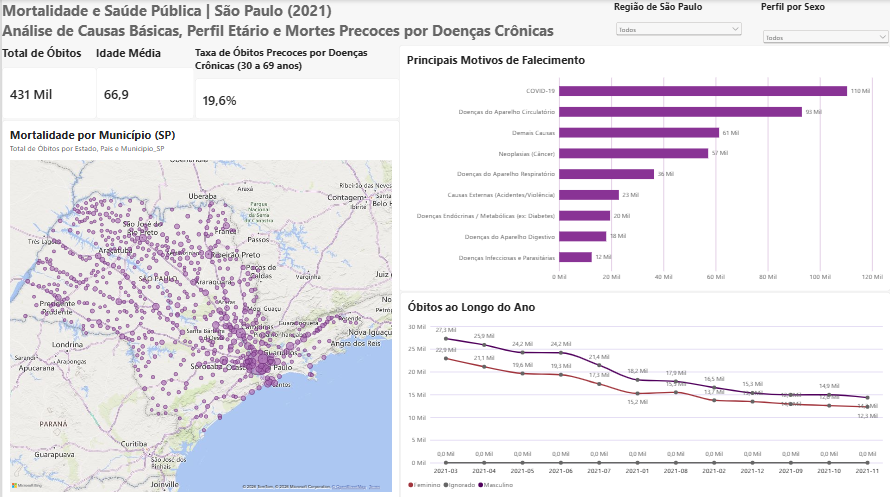

Layout of this report page (visuals, bound fields, positions):
{"tool":"powerbi","page":{"name":"Página 1","canvas":[1920,1080],"ordinal":0},"visuals":[{"type":"slicer","title":"Perfil por Sexo","fields":{"Values":["Mortalidade.SEXO_DESC"]},"box":[1638.6,0,281.4,98.6],"z":0},{"type":"slicer","title":"Região de São Paulo","fields":{"Values":["Mortalidade.MICRORREGIAO"]},"box":[1322.9,0,281,98.6],"z":1000},{"type":"cardVisual","title":"Total de Óbitos","fields":{"Data":["_Medidas.Total Óbitos"]},"box":[0,98,204,160],"z":2000},{"type":"cardVisual","title":"Idade Média","fields":{"Data":["_Medidas.Idade Média"]},"box":[204,98,212,160],"z":3000},{"type":"cardVisual","title":"Taxa de Óbitos Precoces por Doenças Crônicas (30 a 69 anos)","fields":{"Data":["_Medidas.% Prematuros DCNT"]},"box":[416,98,442,160],"z":4000},{"type":"clusteredBarChart","title":"Principais Motivos de Falecimento","fields":{"Category":["Mortalidade.GRUPO_CID_REFINADO"],"Y":["_Medidas.Total Óbitos"]},"box":[858,98,1062,532],"z":5000},{"type":"lineChart","title":"Óbitos ao Longo do Ano","fields":{"Category":["Mortalidade.ANO_MES"],"Series":["Mortalidade.SEXO_DESC"],"Y":["_Medidas.Total Óbitos"]},"box":[860,630,1060,448],"z":6000},{"type":"map","title":"Mortalidade por Município (SP)","fields":{"Category":["Mortalidade.Estado","Mortalidade.Pais","Mortalidade.Municipio_SP"],"Size":["_Medidas.Total Óbitos"]},"box":[0,259.5,859.2,821.4],"z":7000},{"type":"textbox","box":[0,0,1322.9,98.6],"z":8000}]}

Visuals, with their boxes in screenshot pixels (x1, y1, x2, y2), scaled from the page's 1920x1080 canvas onto the 890x497 screenshot:
"Perfil por Sexo" slicer: bbox=(760, 0, 889, 45)
"Região de São Paulo" slicer: bbox=(613, 0, 743, 45)
"Total de Óbitos" cardVisual: bbox=(0, 45, 95, 119)
"Idade Média" cardVisual: bbox=(95, 45, 193, 119)
"Taxa de Óbitos Precoces por Doenças Crônicas (30 a 69 anos)" cardVisual: bbox=(193, 45, 398, 119)
"Principais Motivos de Falecimento" clusteredBarChart: bbox=(398, 45, 889, 290)
"Óbitos ao Longo do Ano" lineChart: bbox=(399, 290, 889, 496)
"Mortalidade por Município (SP)" map: bbox=(0, 119, 398, 496)
textbox: bbox=(0, 0, 613, 45)
